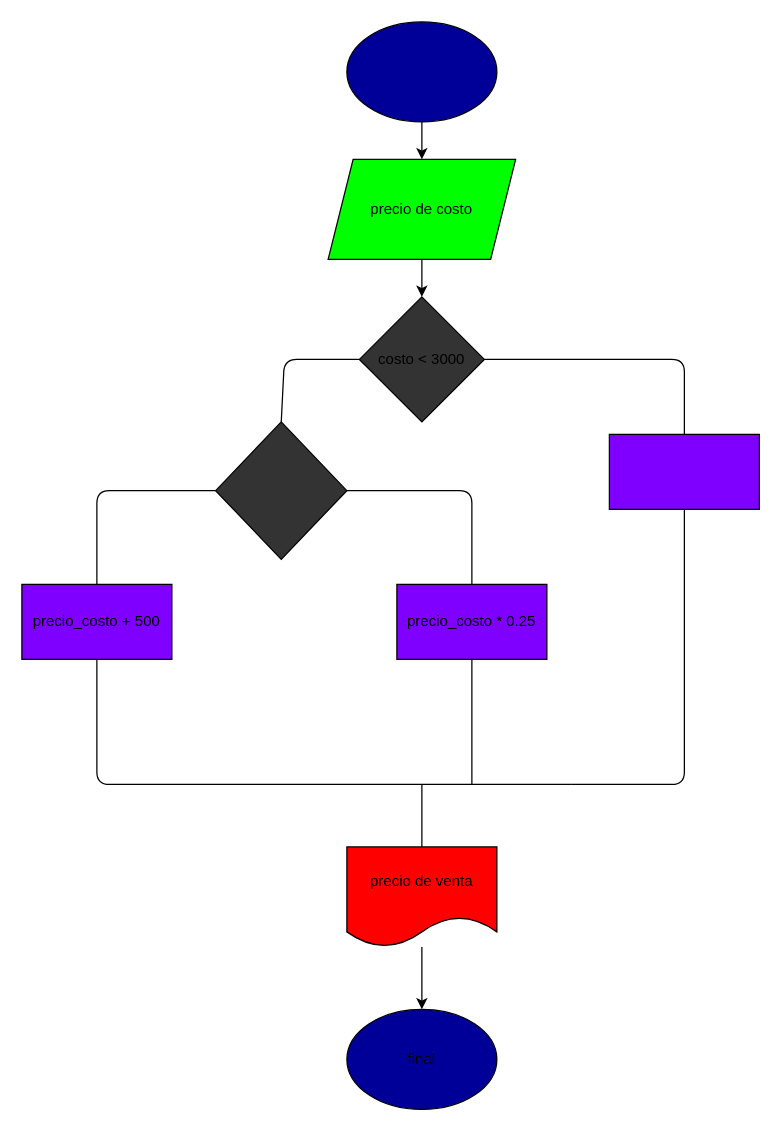
Image size: 781x1131. Some labels were removed from this diagram. Here are the shapes that lost their labels. From the top down, the centre of each, then its label:
At (421,71): "inicio".
At (280,490): "costo < 6000".
At (683,471): "precio_costo * 0.15".
